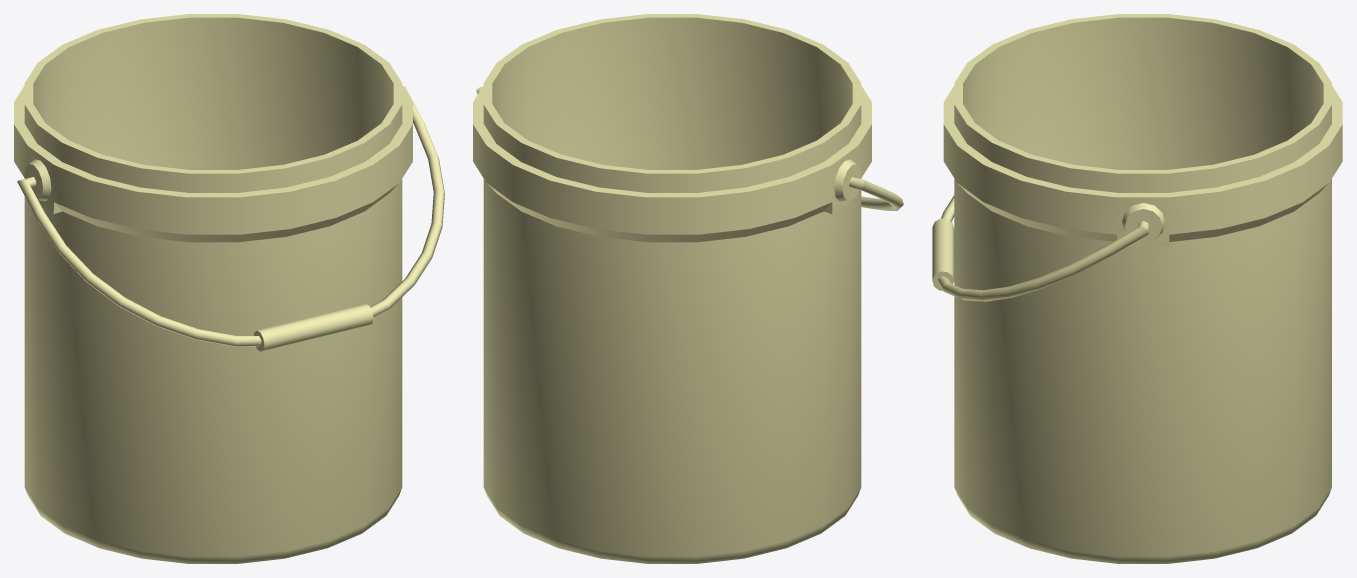
File: bucket.fbx
3 renders of one model, left to right at view 1: azimuth 30°, elevation 25°; view 2: azimuth 150°, elevation 25°; view 3: azimuth 270°, elevation 25°, orthographic.
Parts seen in each view (by area): view 1: bucket; view 2: bucket; view 3: bucket.
Boxes of the visible parts, left/top/right/bottom form: bucket: left=14, top=14, right=444, bottom=563; bucket: left=473, top=14, right=903, bottom=563; bucket: left=932, top=14, right=1342, bottom=563.
Bounding box in the file's own units: 1507 × 1463 × 1379.
